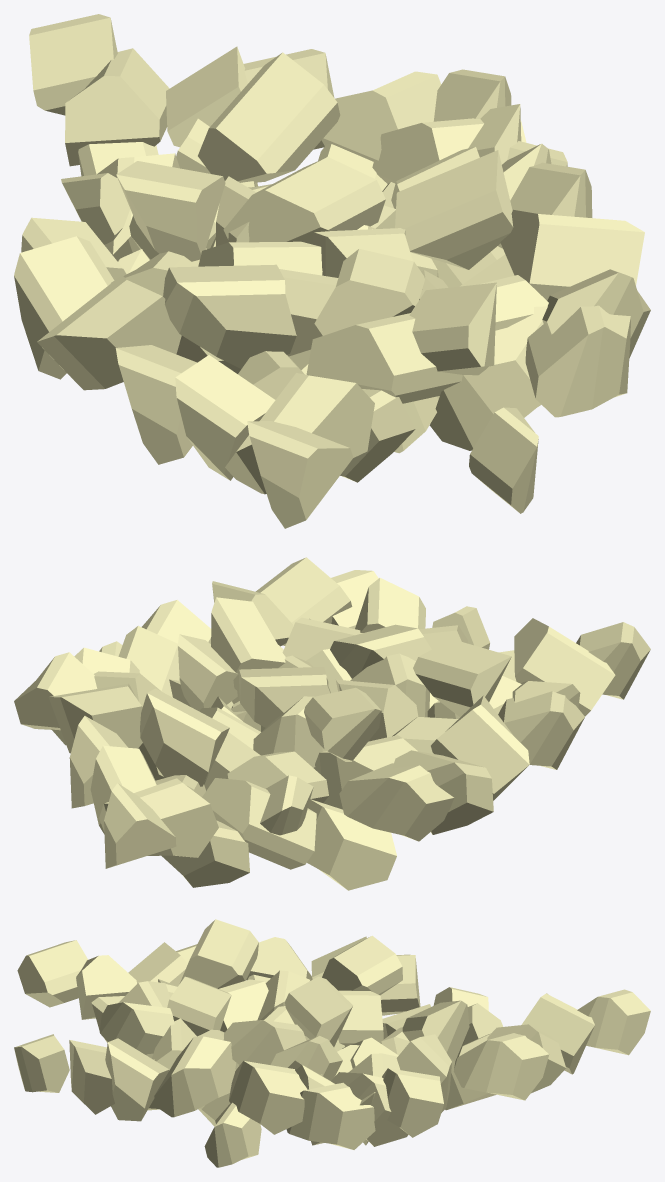
Rendered from chopped garlic.fbx.
3 renders of one model, top to bottom at view 1: azimuth 30°, elevation 25°; view 2: azimuth 150°, elevation 25°; view 3: azimuth 270°, elevation 25°, orthographic. The views are drawn at different scales.
Parts seen in each view (by area): view 1: Cube.001; view 2: Cube.001; view 3: Cube.001.
Boxes of the visible parts, x1,y1,x2,y2 form: Cube.001: (14,14,650,528); Cube.001: (14,557,650,890); Cube.001: (14,919,650,1167).
Bounding box in the file's own units: 294 × 113 × 442.
